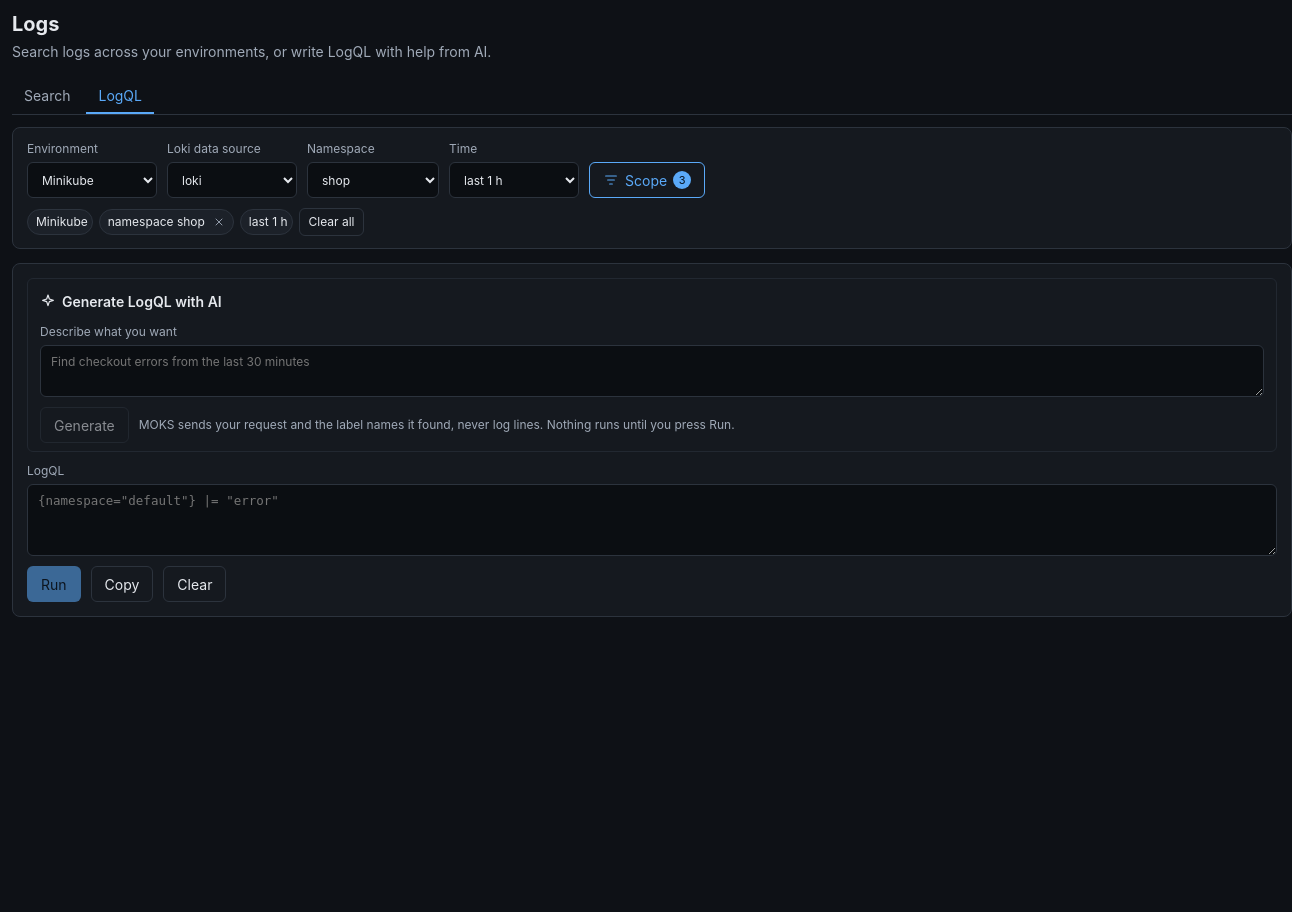
Test: Generate LogQL with AI › shows a refusal from the backend as a permission problem
Type "find checkout timeouts" into the text box labelled "Describe what you want" at (652, 371), box [40, 345, 1264, 397]
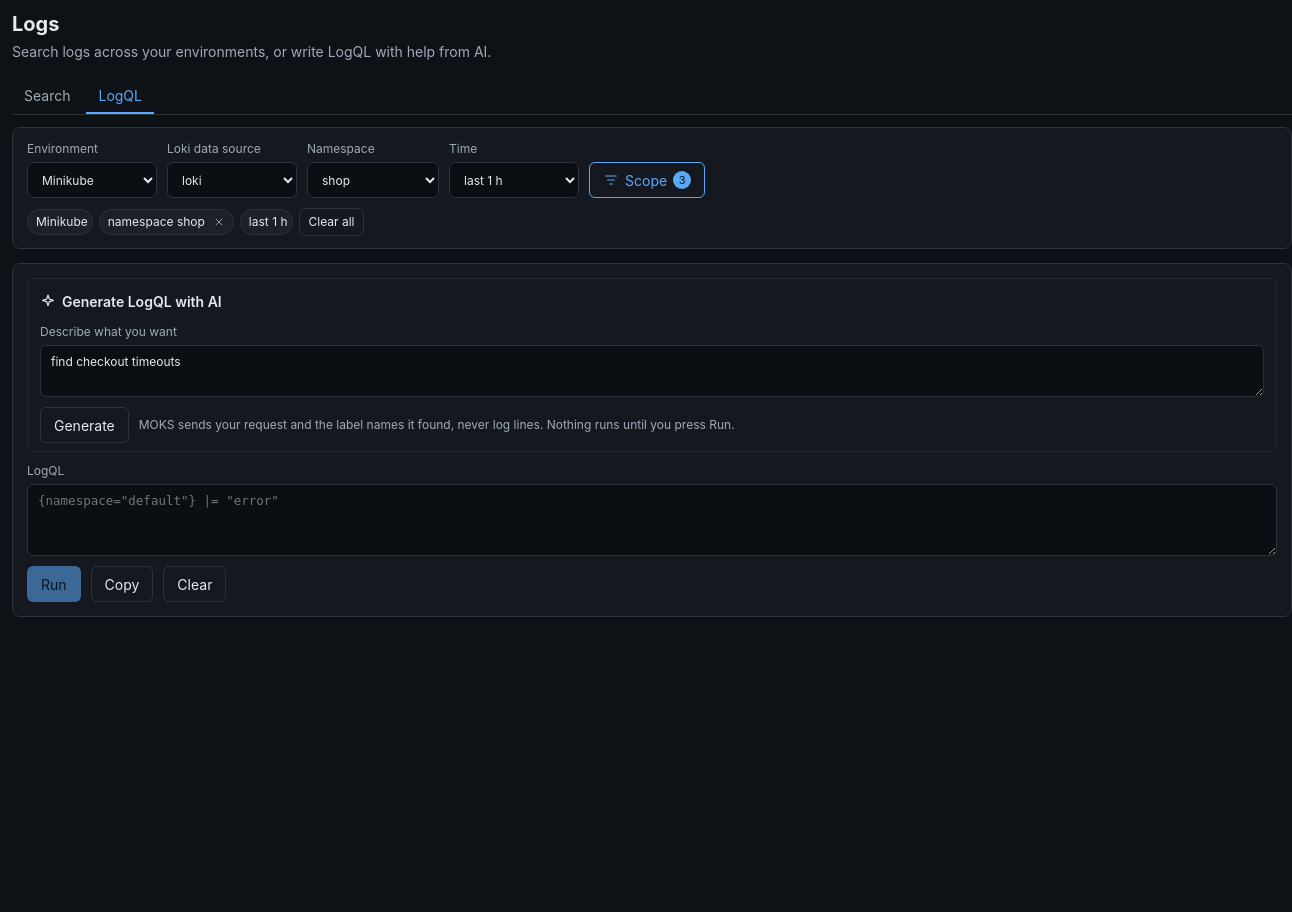
Click the button "Generate" at (84, 425), box [40, 407, 129, 443]
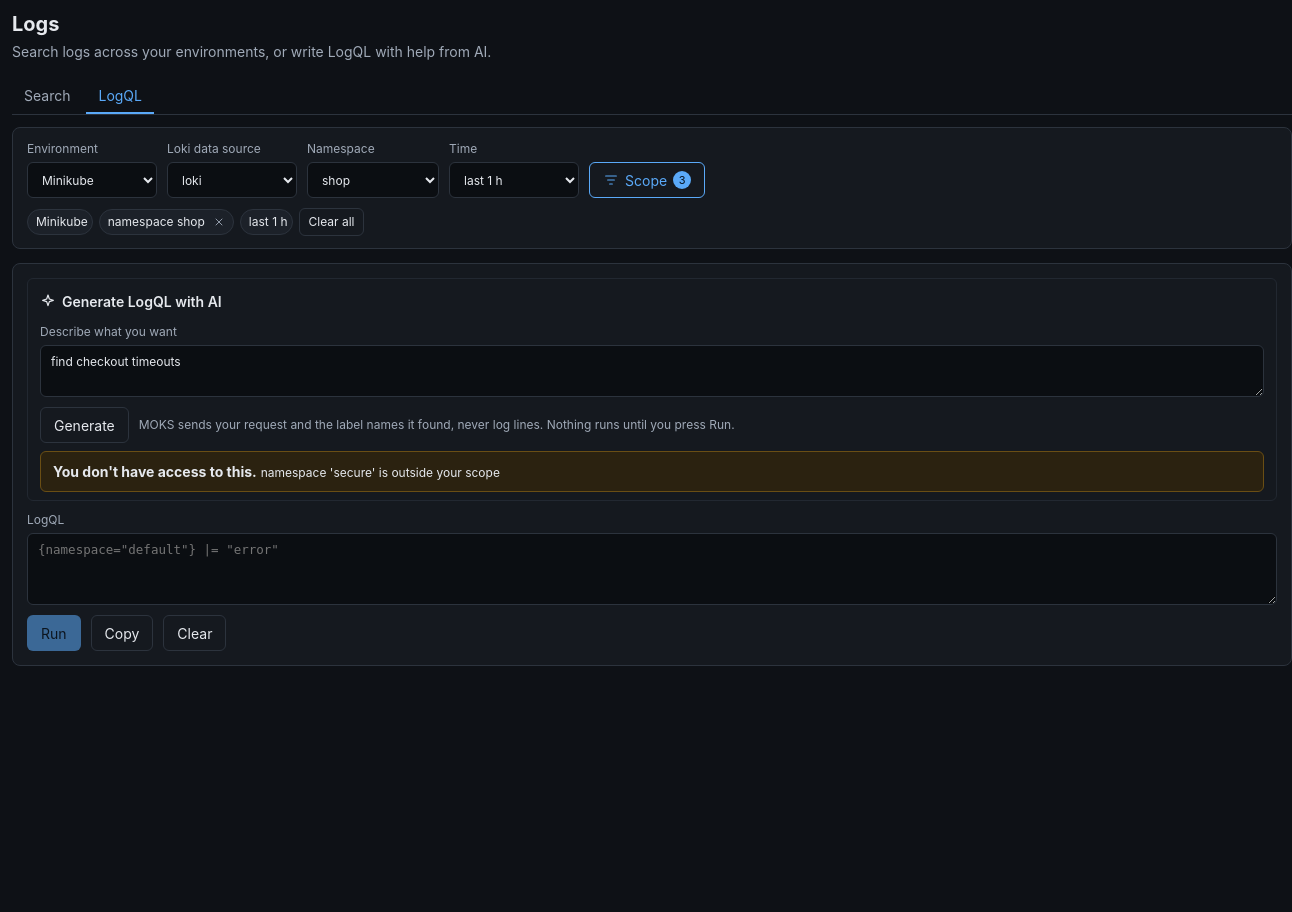
Expected: the message shows "You don't have access", [53, 463, 257, 480]
